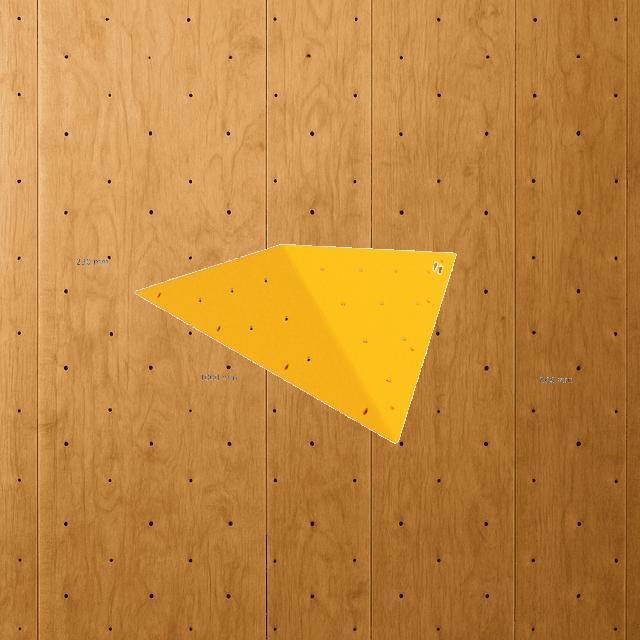Volume: (134, 242, 456, 446)
